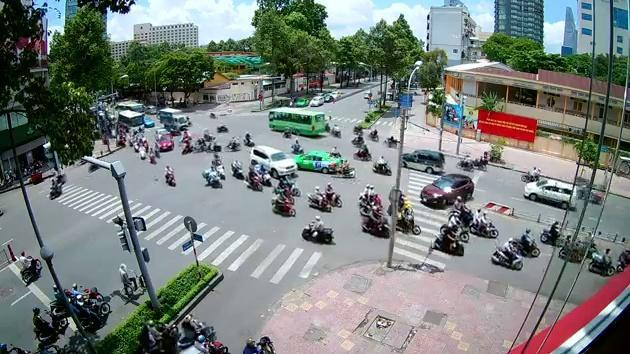xe buyt: (268, 106, 325, 137)
xe dap: (117, 261, 150, 302)
xe hoi: (418, 170, 475, 209), (522, 176, 574, 210), (247, 142, 296, 176), (397, 149, 442, 174), (295, 150, 341, 173), (156, 132, 173, 152)
xe may: (29, 305, 68, 343), (138, 318, 178, 354), (488, 236, 521, 271), (505, 226, 538, 257), (359, 205, 389, 239), (301, 214, 332, 245), (468, 206, 498, 238), (17, 247, 41, 284), (587, 246, 615, 276), (269, 189, 296, 217), (306, 185, 331, 213), (538, 219, 563, 247), (357, 181, 383, 207), (243, 165, 263, 192), (200, 164, 222, 188), (323, 182, 343, 207), (370, 154, 391, 176), (334, 158, 355, 177), (228, 157, 245, 180), (520, 165, 541, 182), (351, 143, 371, 160), (222, 135, 240, 152), (163, 163, 176, 186), (289, 138, 302, 153), (241, 131, 254, 146)
xe tai: (157, 106, 187, 129)
